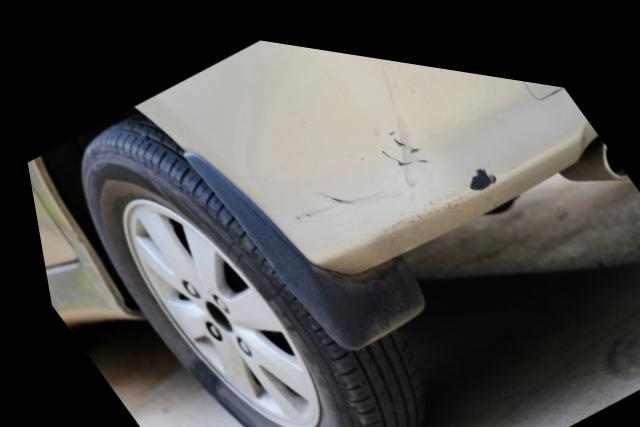scratch: (283, 111, 493, 212)
